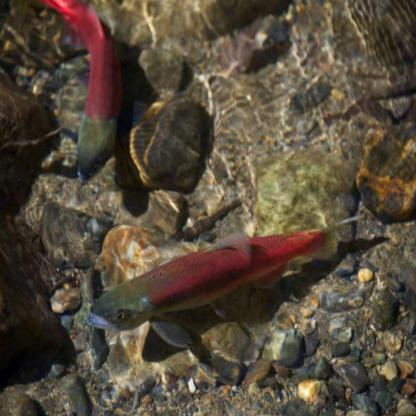sockeye: (88, 221, 369, 334)
